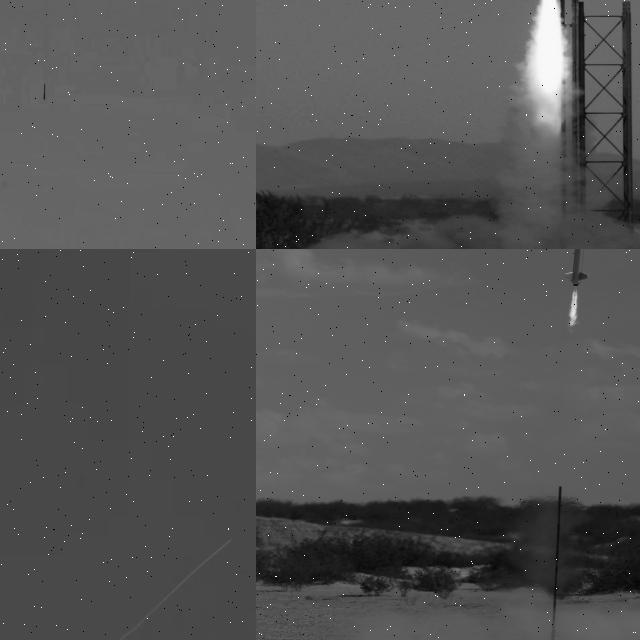Rocket: (563, 249, 590, 286), (43, 83, 46, 100), (229, 539, 231, 541)
